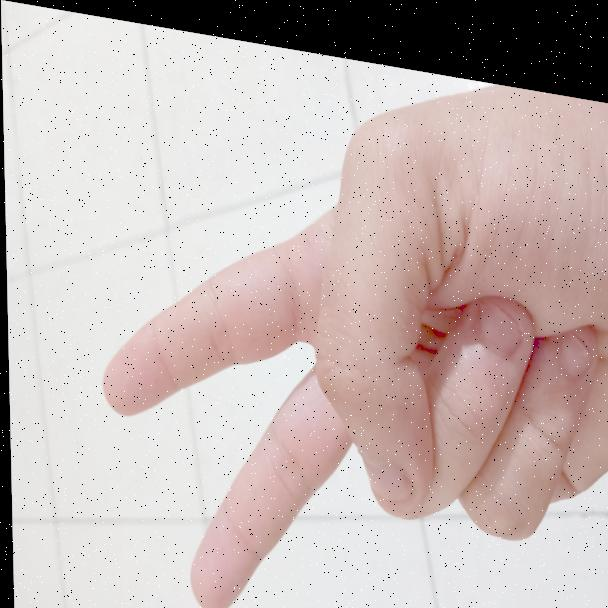two: (95, 43, 607, 608)
